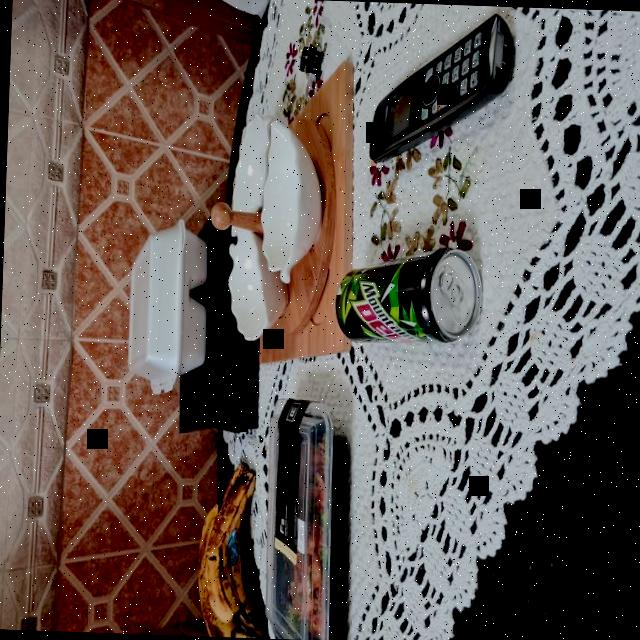can: (334, 255, 474, 348)
